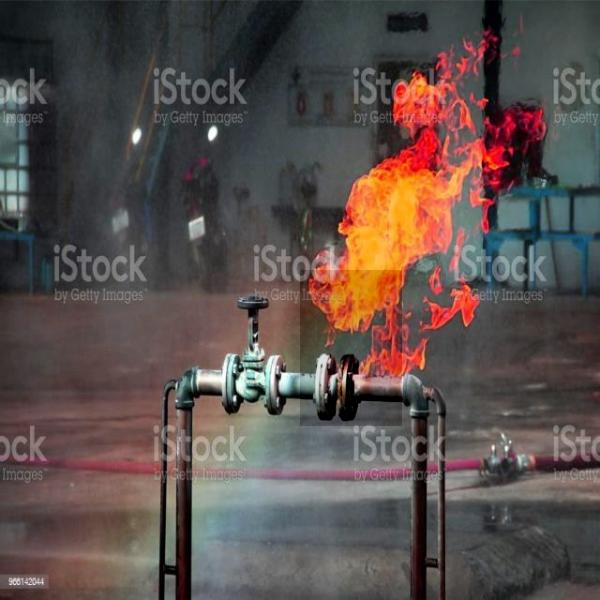gas: (300, 270, 402, 426)
